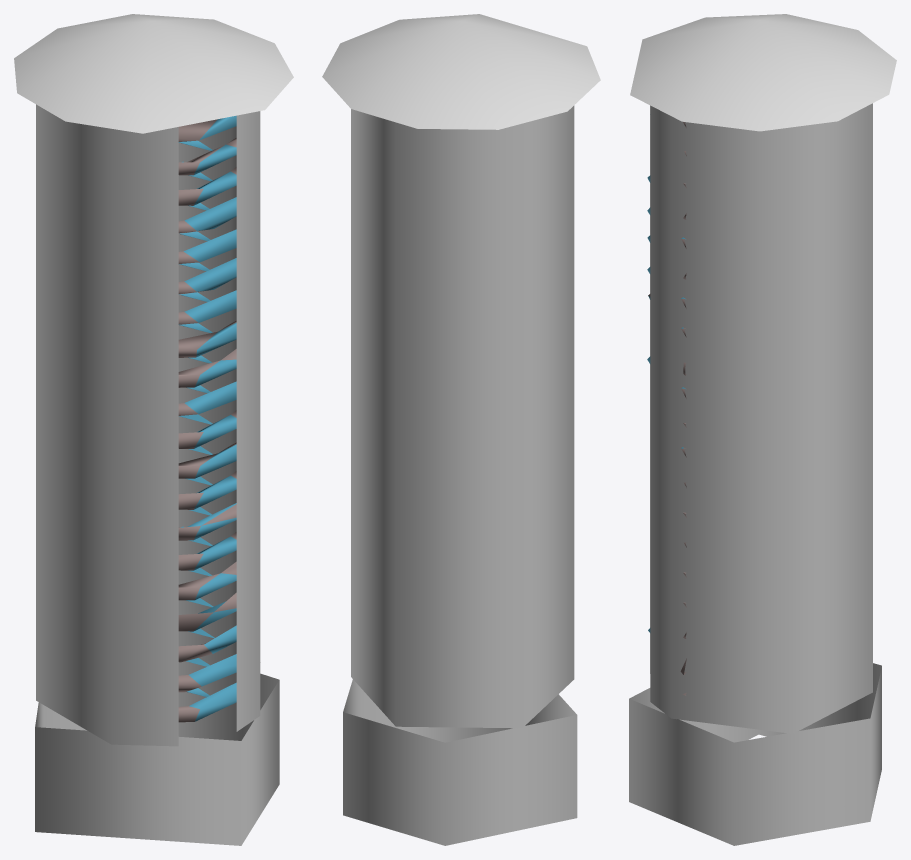
The model's file is Flywheel_Tower-LOD1.glb.
The picture shows the model from 3 angles, left to right: view 1: azimuth 30°, elevation 25°; view 2: azimuth 150°, elevation 25°; view 3: azimuth 270°, elevation 25°; orthographic projection.
Parts seen in each view (by area): view 1: FlywheelTower_LOD1, FlywheelSpokes_LOD1; view 2: FlywheelTower_LOD1; view 3: FlywheelTower_LOD1, FlywheelSpokes_LOD1.
Boxes of the visible parts, box(x1,y1,x2,y2) form: FlywheelTower_LOD1: box(14, 14, 293, 845); FlywheelSpokes_LOD1: box(178, 115, 236, 722); FlywheelTower_LOD1: box(322, 14, 600, 845); FlywheelTower_LOD1: box(629, 14, 896, 845); FlywheelSpokes_LOD1: box(647, 122, 686, 695).
Bounding box in the file's own units: 7.31 × 22.35 × 7.05.
